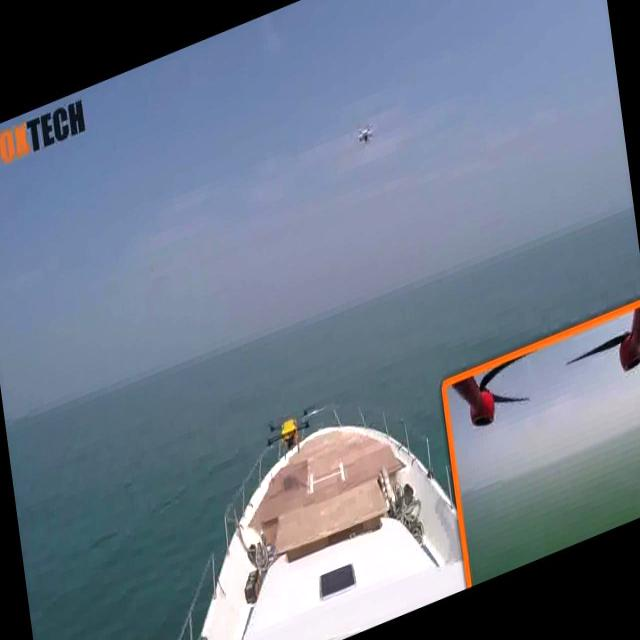drone: (264, 398, 316, 472), (352, 118, 378, 150)
